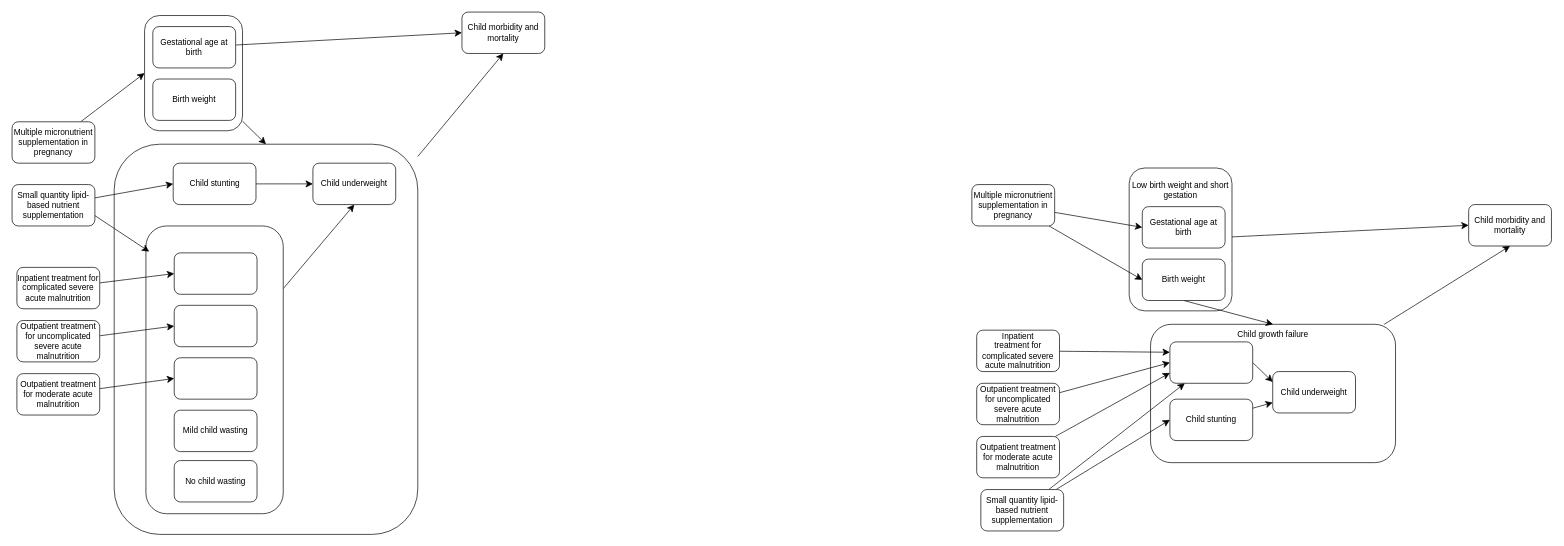
The diagram is 1564 pixels wide and 546 high, and some of its shapes have lost their labels. Each missing label, with the centre of its shape:
"Child wasting" belongs at [1211,362].
"Complicated severe acute malnutrition" belongs at [215,273].
"Moderate acute malnutrition" belongs at [215,378].
"Uncomplicated severe acute malnutrition" belongs at [215,326].
